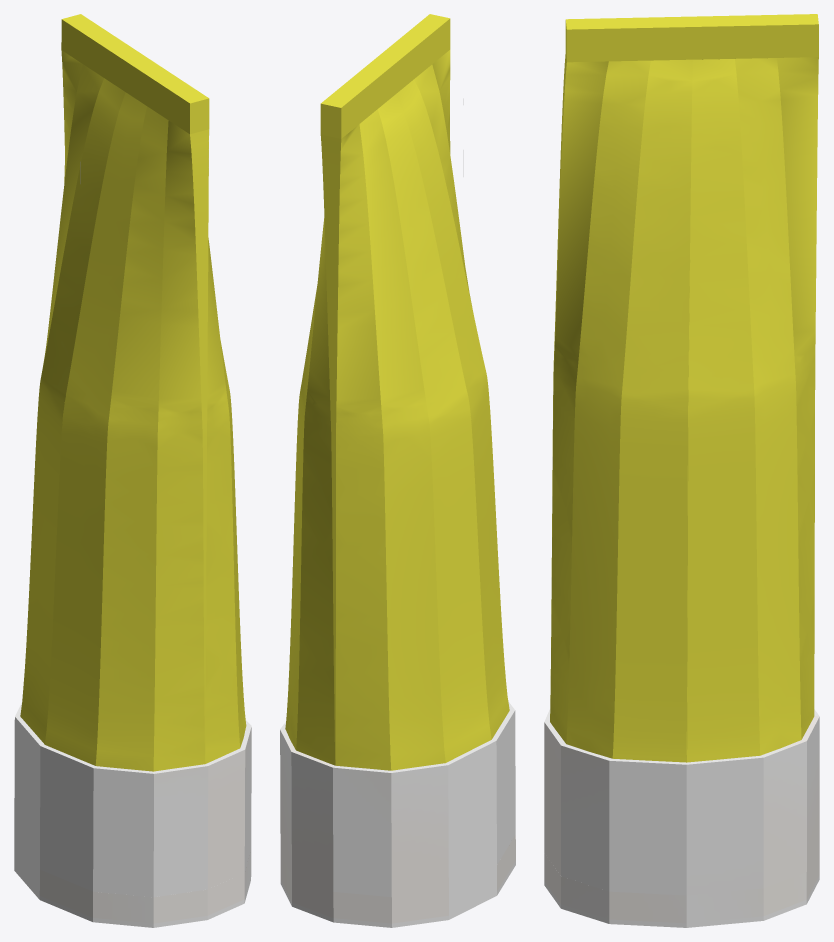
The model's file is NEW pomata chiusa.fbx.
3 views of the same model, side by side, from view 1: azimuth 30°, elevation 25°; view 2: azimuth 150°, elevation 25°; view 3: azimuth 270°, elevation 25° (orthographic). The views are drawn at different scales.
Parts seen in each view (by area): view 1: Object_3; view 2: Object_3; view 3: Object_3.
Part boxes in pixels (x1,y1,x2,y2): Object_3: [14, 14, 251, 927]; Object_3: [280, 14, 515, 927]; Object_3: [544, 14, 819, 927].
Bounding box in the file's own units: 5.62 × 23.16 × 6.7.
